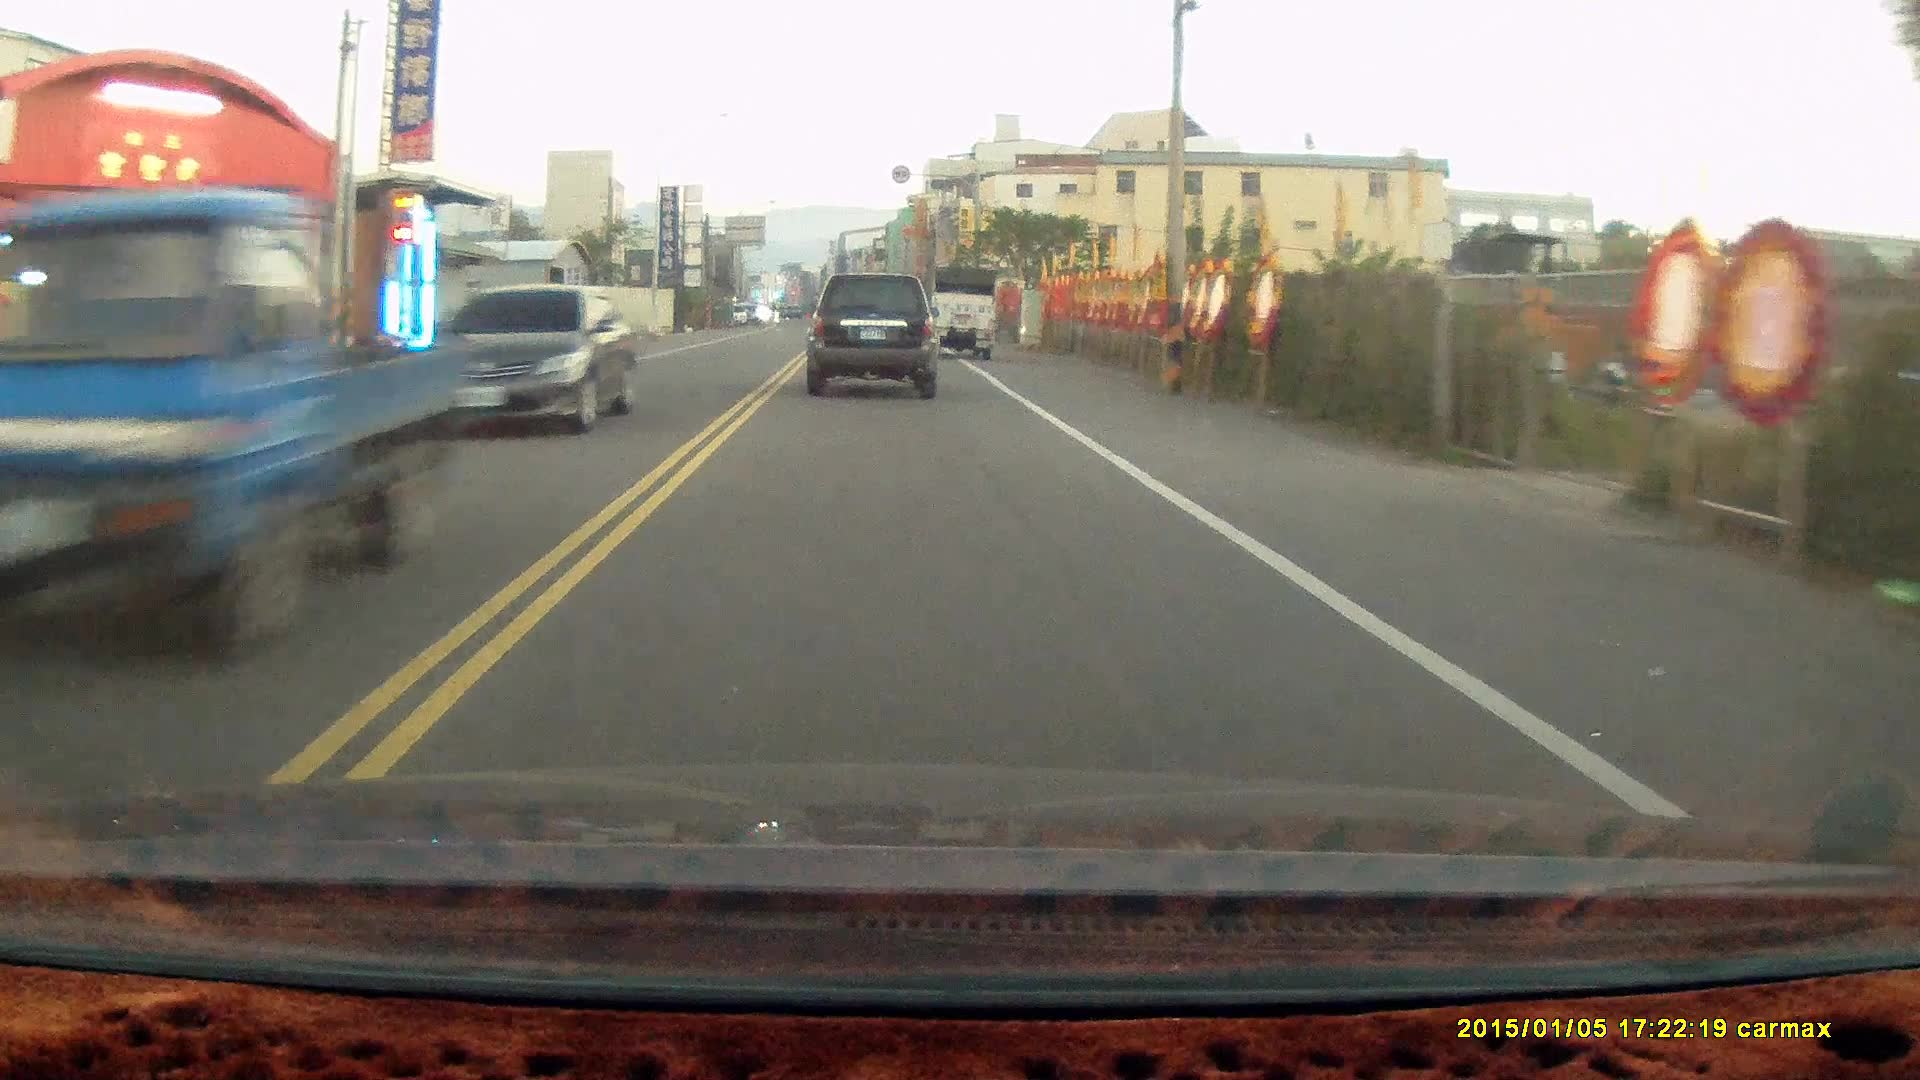vehicle: (12, 182, 448, 680), (430, 282, 640, 439), (803, 270, 939, 400), (927, 262, 1001, 356)
